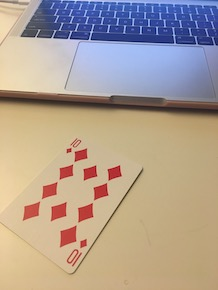TenOfDiamonds: (1, 132, 145, 274)
